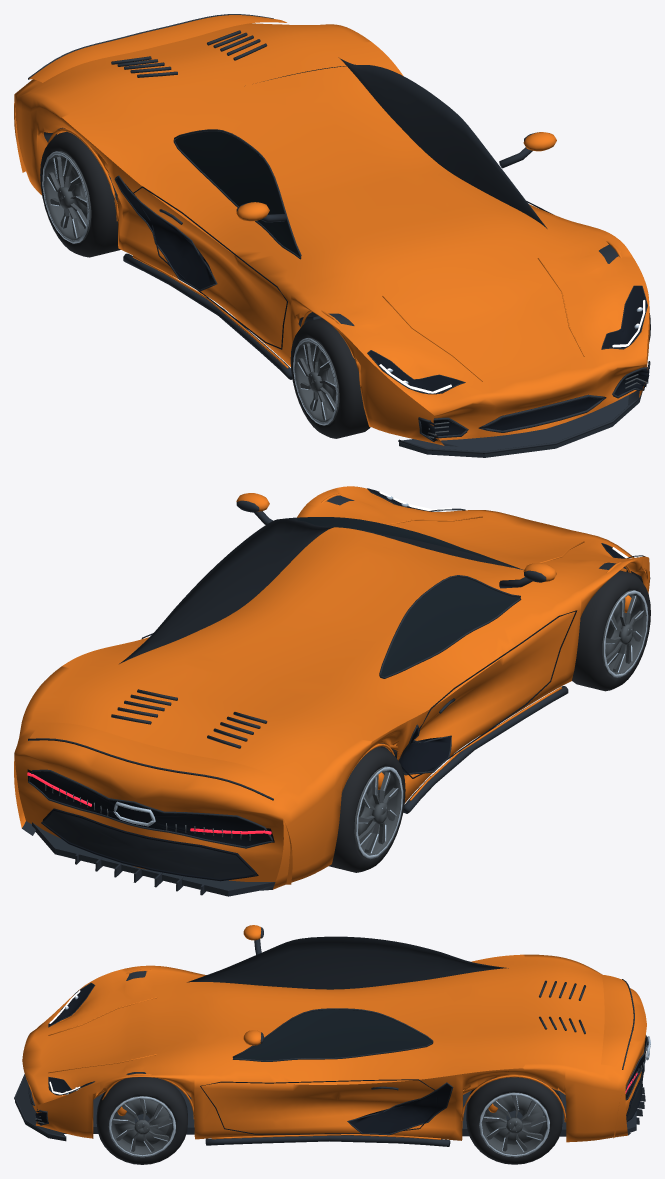
Rendered from McLaren.glb.
The picture shows the model from 3 angles, top to bottom: view 1: azimuth 30°, elevation 25°; view 2: azimuth 150°, elevation 25°; view 3: azimuth 270°, elevation 25°; orthographic projection. The views are drawn at different scales.
Visible parts, largest first — view 1: McLaren_Body, Wheel_Rear_L, Wheel_Front_L; view 2: McLaren_Body, Wheel_Front_L, Wheel_Rear_L; view 3: McLaren_Body, Wheel_Rear_R, Wheel_Front_R.
Part boxes in pixels (x1,y1,x2,y2): McLaren_Body: [14, 14, 650, 457]; Wheel_Rear_L: [40, 131, 120, 257]; Wheel_Front_L: [290, 318, 370, 438]; McLaren_Body: [14, 486, 650, 896]; Wheel_Front_L: [572, 570, 650, 691]; Wheel_Rear_L: [329, 747, 405, 872]; McLaren_Body: [14, 925, 650, 1146]; Wheel_Rear_R: [466, 1077, 562, 1164]; Wheel_Front_R: [96, 1077, 187, 1164].
Size of the model in its own units: 2 by 1.2 by 4.57.
